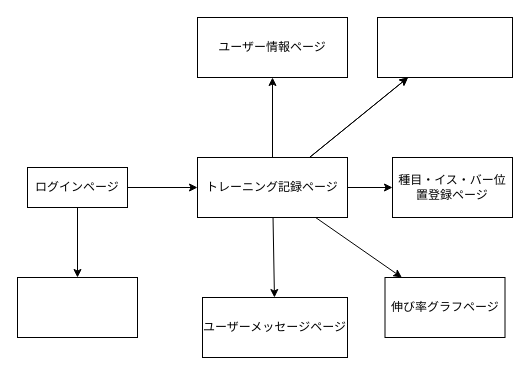
Image size: 530x375. Some labels were removed from this diagram. Each missing label, with the centre of its shape:
"新規登録ページ" belongs at point 77,307.
"過去トレーニングページ" belongs at point 444,47.
